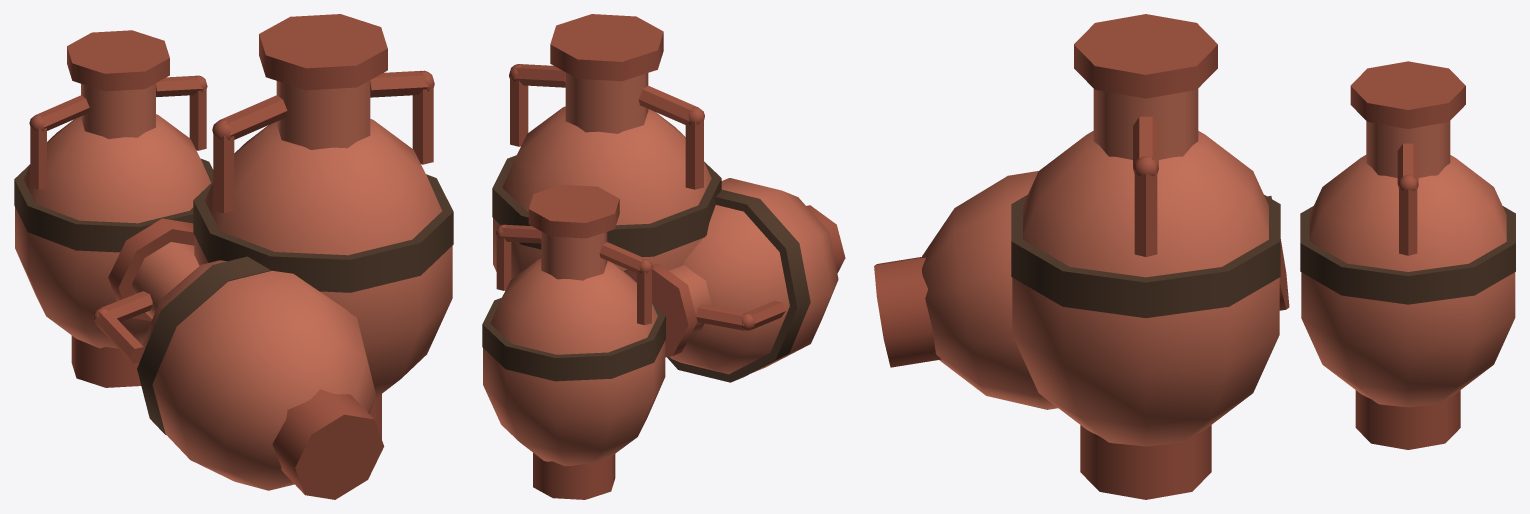
File: Amphorae.glb
The picture shows the model from 3 angles, left to right: view 1: azimuth 30°, elevation 25°; view 2: azimuth 150°, elevation 25°; view 3: azimuth 270°, elevation 25°; orthographic projection. The views are drawn at different scales.
Parts seen in each view (by area): view 1: Amphorae; view 2: Amphorae; view 3: Amphorae.
Part boxes in pixels (x1,y1,x2,y2): Amphorae: (14, 14, 453, 499); Amphorae: (482, 14, 845, 499); Amphorae: (874, 14, 1515, 499).
Size of the model in its own units: 3 by 3.6 by 4.9.
1 material, 1 textured.
